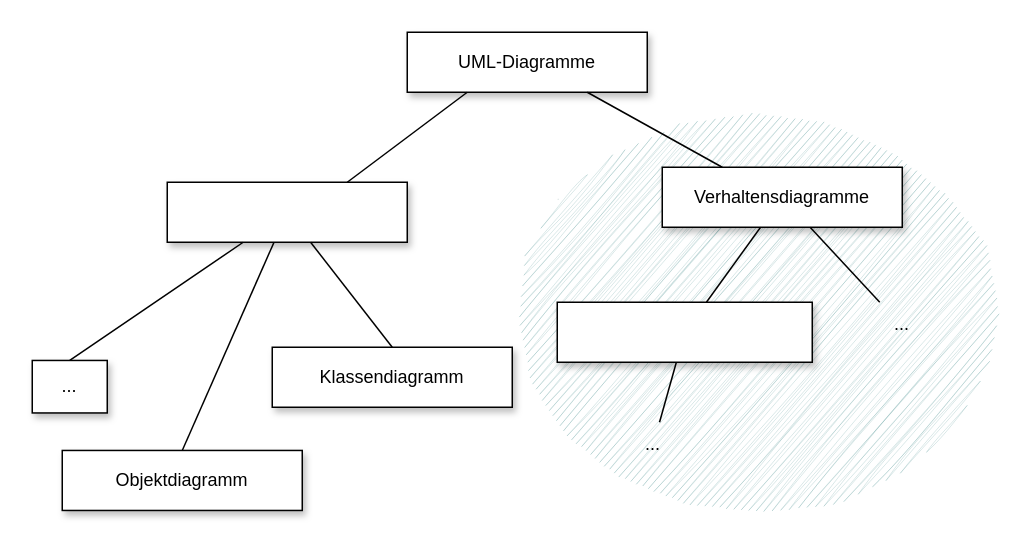
Some shapes in this 1023 by 548 pixel diagram are drawn without their labels. Each missing label, with the centre of its shape:
Anwendungsfalldiagramm: (x=685, y=334)
Strukturdiagramme: (x=288, y=214)
